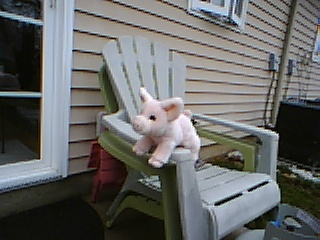piggy: (131, 86, 202, 169)
